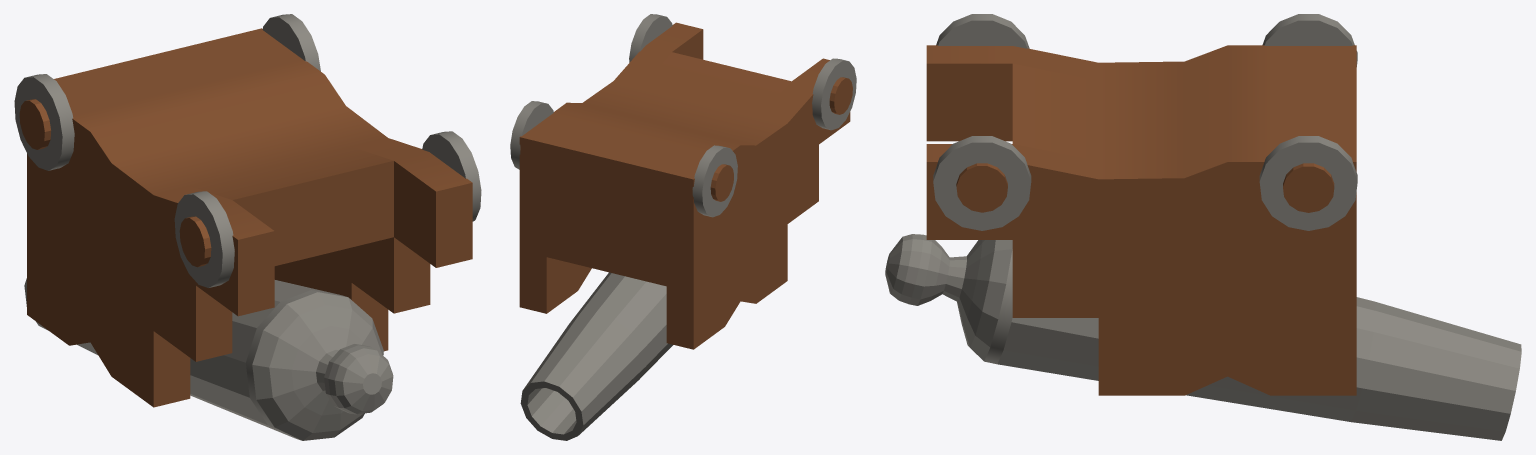
Rendered from Cannon.FBX.
3 views of the same model, side by side, from view 1: azimuth 30°, elevation 25°; view 2: azimuth 150°, elevation 25°; view 3: azimuth 270°, elevation 25° (orthographic). The views are drawn at different scales.
Visible parts, largest first — view 1: Box002; view 2: Box002; view 3: Box002.
Part boxes in pixels (x1,y1,x2,y2): Box002: (14, 14, 481, 440); Box002: (510, 14, 856, 440); Box002: (885, 14, 1521, 440).
Bounding box in the file's own units: 37.15 × 46.1 × 74.05.
